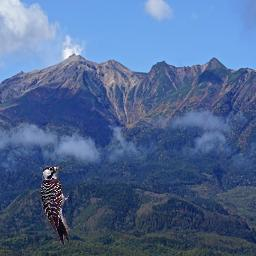Woodpecker: (41, 165, 69, 245)
